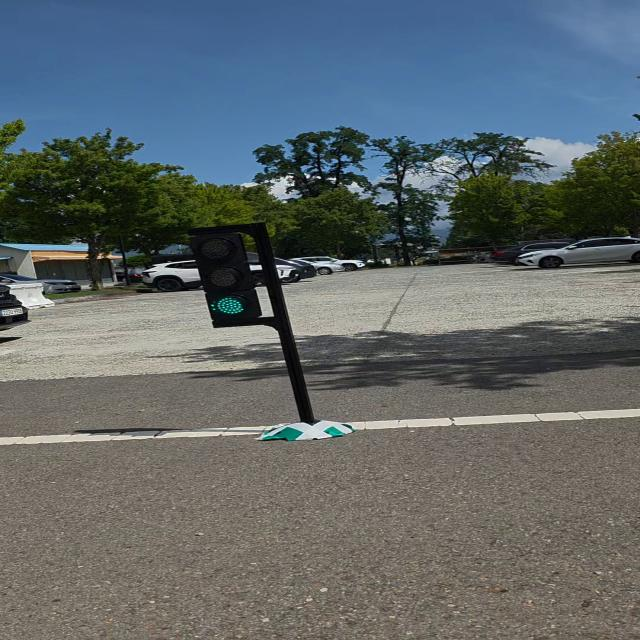green: (185, 228, 261, 324)
